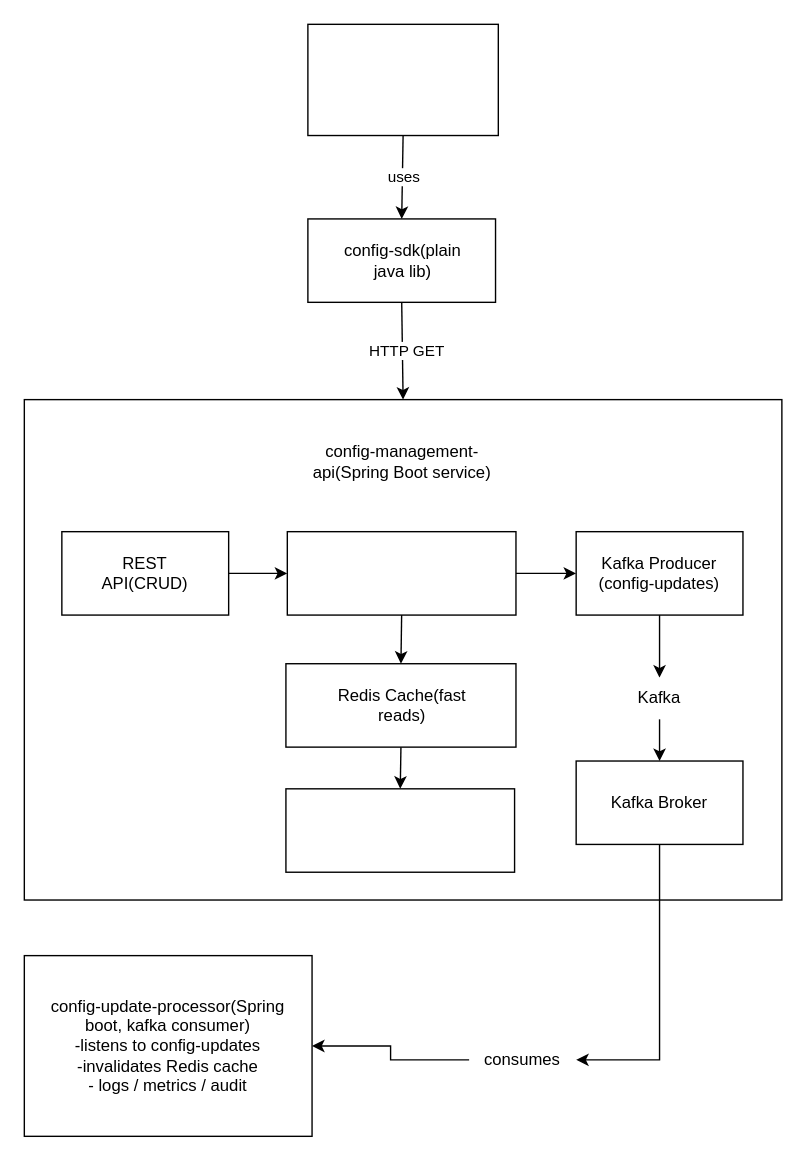
The diagram is 806 pixels wide and 1161 high, and some of its shapes have lost their labels. The centre of each missing label's shape, as x and y in pixels:
Client App (any microservice in org): point 402,79
PostgreSQL(persistent DB): point 400,829
Service layer(business ): point 401,572
